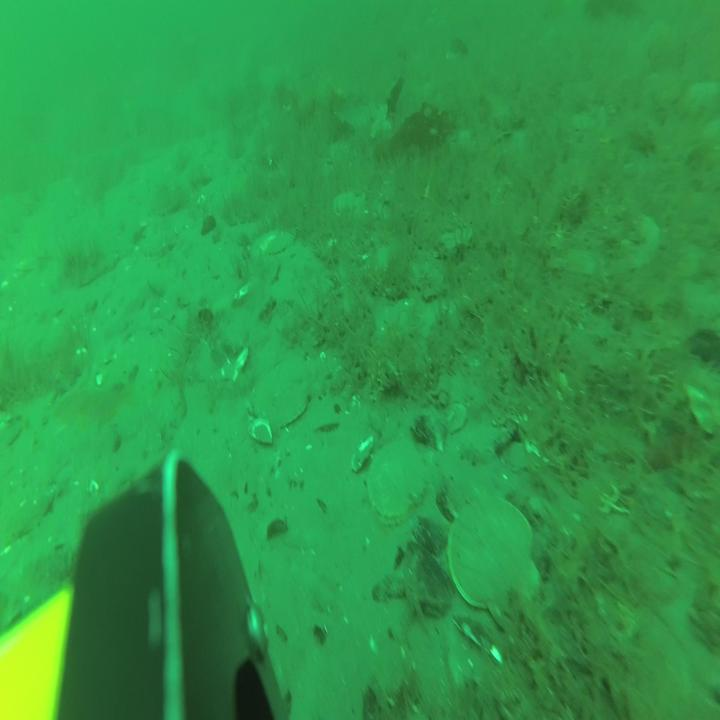scallop: (448, 495, 540, 630), (368, 438, 425, 524), (252, 358, 317, 431), (617, 215, 661, 270), (145, 226, 177, 262), (334, 190, 366, 215), (272, 232, 294, 255), (260, 230, 280, 252)
